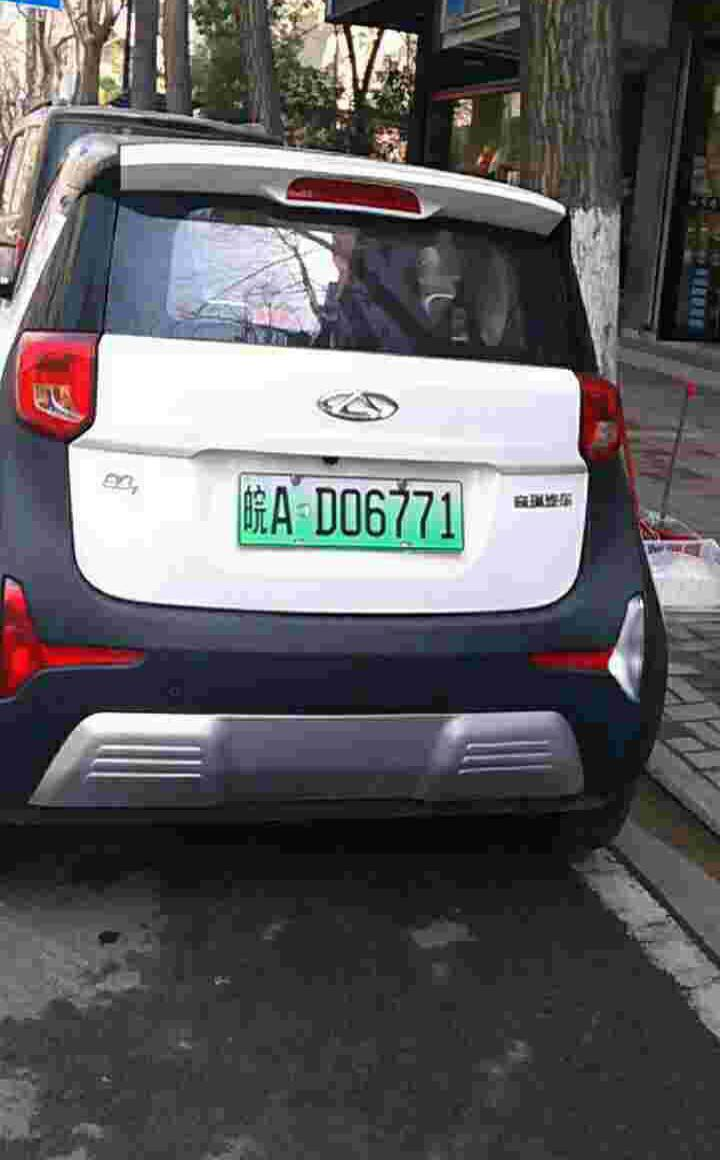car: (241, 470, 471, 556)
